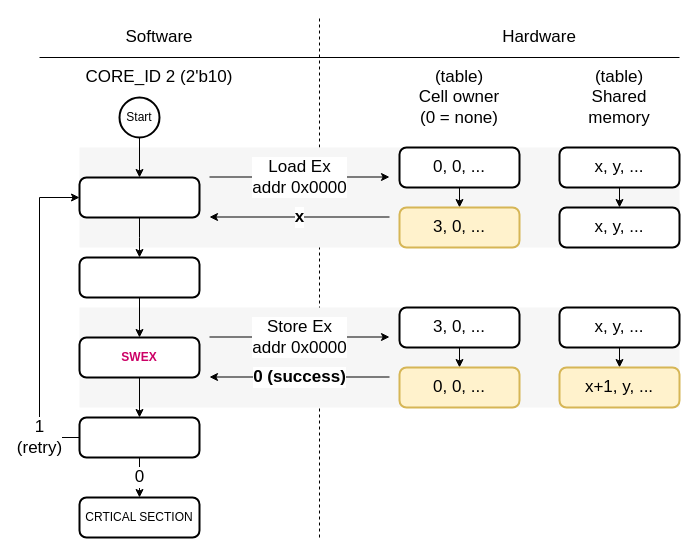
This 698x556 diagram has some shape labels left out. The shapes that lost their labels are listed below. From the top down, each one's centre as x and y in pixels, then its label:
At point (139, 197): "LWEX".
At point (139, 277): "ADD 1 to x".
At point (139, 437): "CMP".
